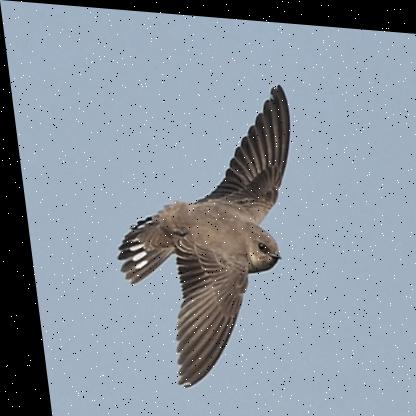Burung: (93, 68, 316, 394)
